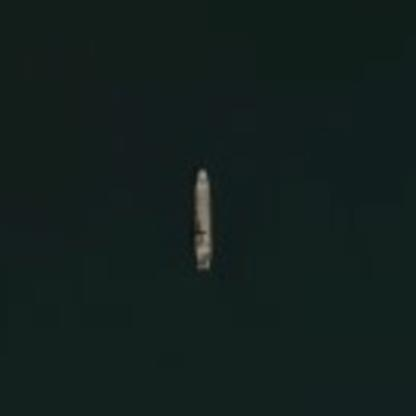ship: (184, 161, 221, 275)
